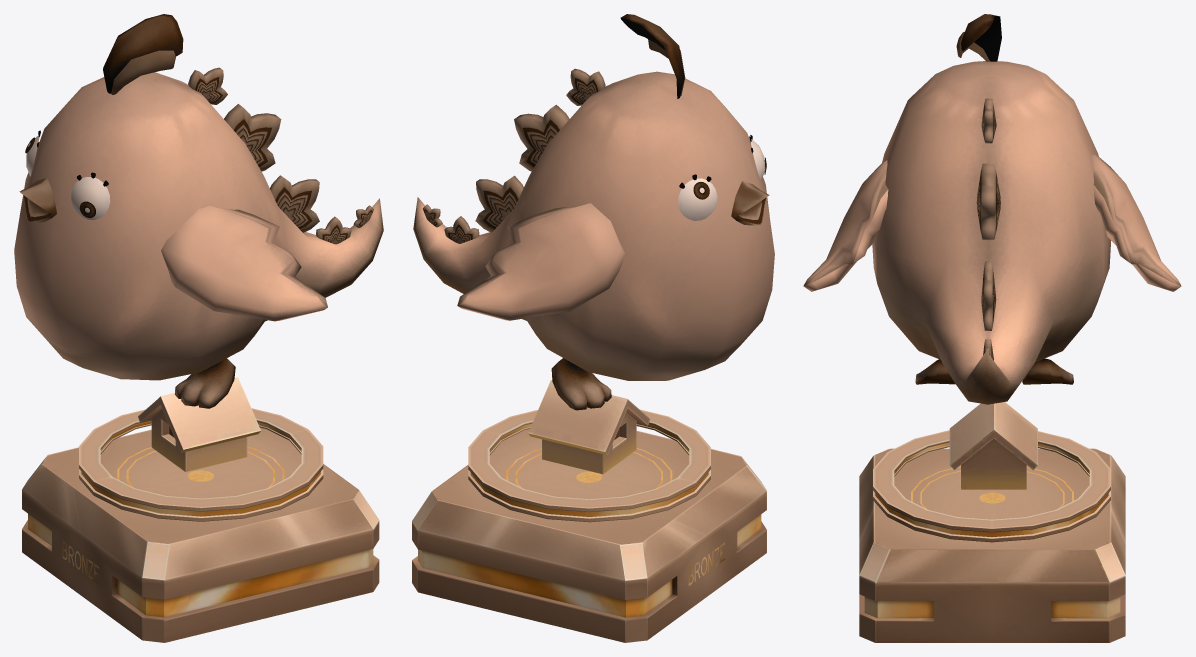
File: my_trophy_perorozilla_indoor_bronze.glb
3 renders of one model, left to right at view 1: azimuth 30°, elevation 25°; view 2: azimuth 150°, elevation 25°; view 3: azimuth 270°, elevation 25°, orthographic. The views are drawn at different scales.
Visible parts, largest first — view 1: my_trophy_perorozilla_indoor_bronze; view 2: my_trophy_perorozilla_indoor_bronze; view 3: my_trophy_perorozilla_indoor_bronze.
Boxes of the visible parts, bbox=[...] form: my_trophy_perorozilla_indoor_bronze: bbox=[14, 14, 383, 642]; my_trophy_perorozilla_indoor_bronze: bbox=[412, 14, 774, 642]; my_trophy_perorozilla_indoor_bronze: bbox=[803, 14, 1181, 642].
Bounding box in the file's own units: 0.0059 × 0.00885 × 0.00554.
3 materials, 3 textured.
